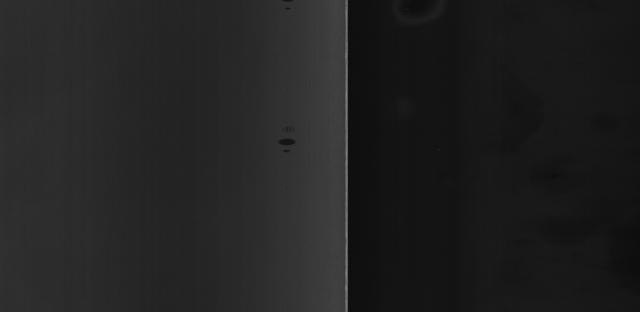oil_spot: (271, 121, 311, 160)
